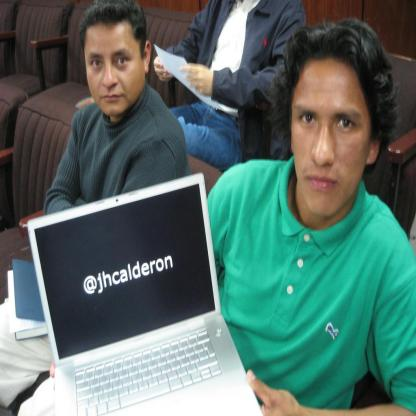board: (27, 170, 264, 416)
